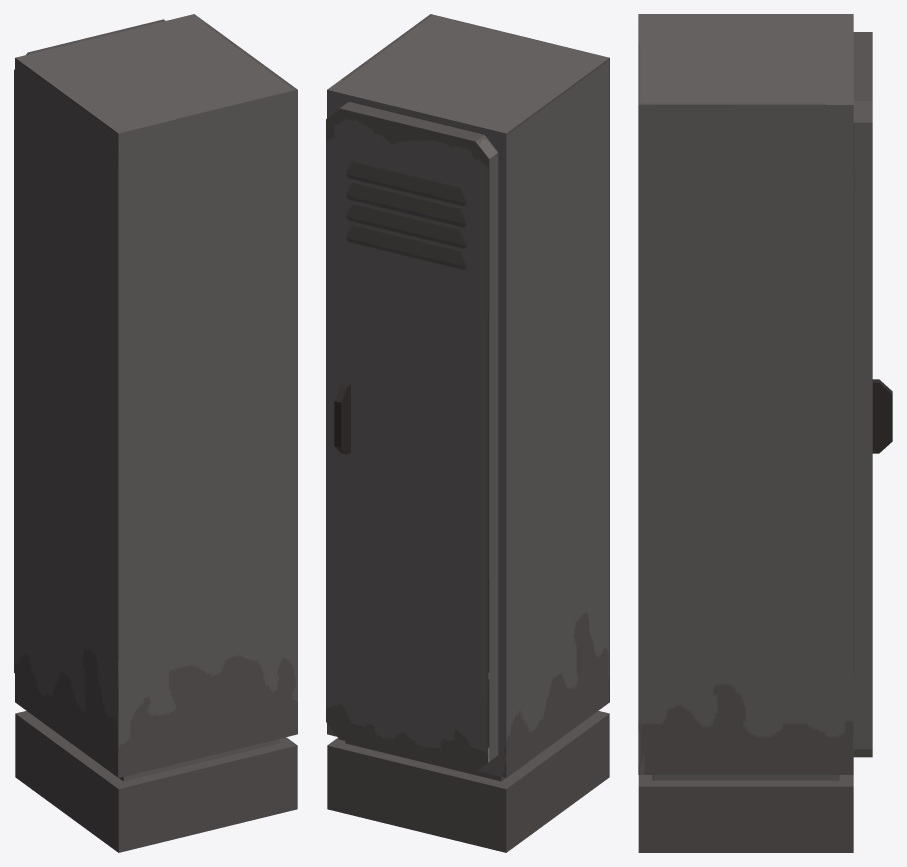
Rendered from locker.obj.
3 renders of one model, left to right at view 1: azimuth 30°, elevation 25°; view 2: azimuth 150°, elevation 25°; view 3: azimuth 270°, elevation 25°, orthographic. The views are drawn at different scales.
Parts seen in each view (by area): view 1: Cube; view 2: Cube, Cube.001; view 3: Cube, Cube.001.
Part boxes in pixels (<box>): Cube: <box>14,14,297,852</box>; Cube: <box>326,14,609,852</box>; Cube.001: <box>334,382,350,454</box>; Cube: <box>638,14,872,852</box>; Cube.001: <box>872,379,892,453</box>.
Bounding box in the file's own units: 1.07 × 4.1 × 1.26.
2 materials, 2 textured.
